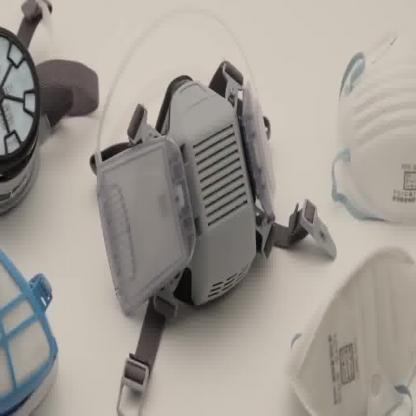mask: (91, 49, 342, 416), (285, 236, 415, 415), (0, 2, 86, 228), (339, 19, 415, 230), (0, 241, 67, 415)
